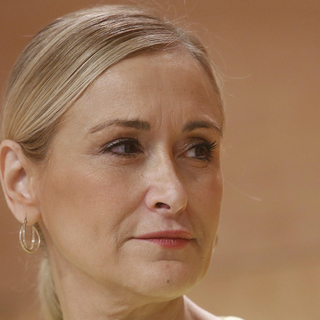eye: (95, 133, 145, 160), (176, 138, 219, 164)
